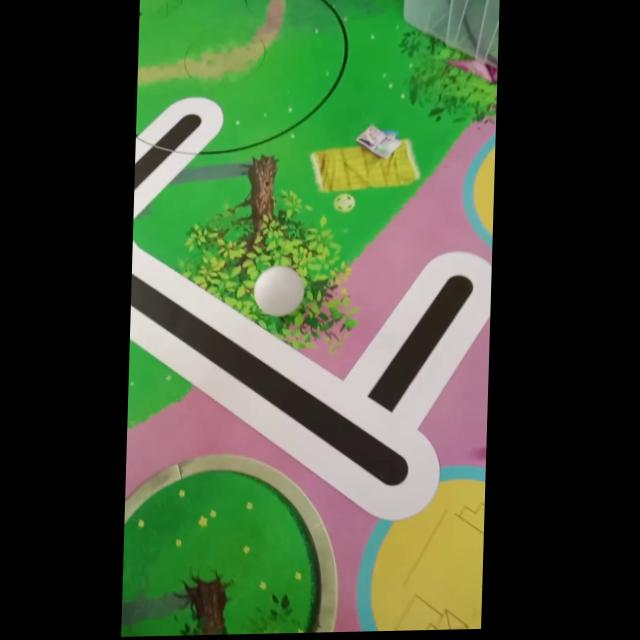white ball: (252, 264, 306, 317)
